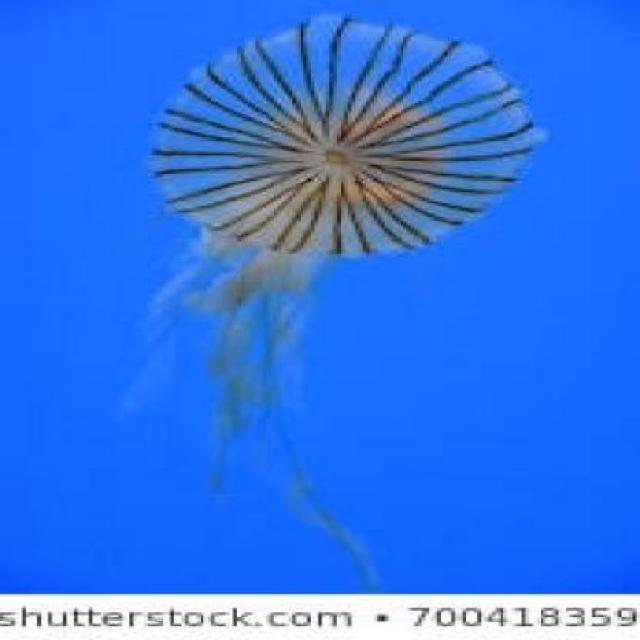Jellyfish: (129, 9, 551, 580)
